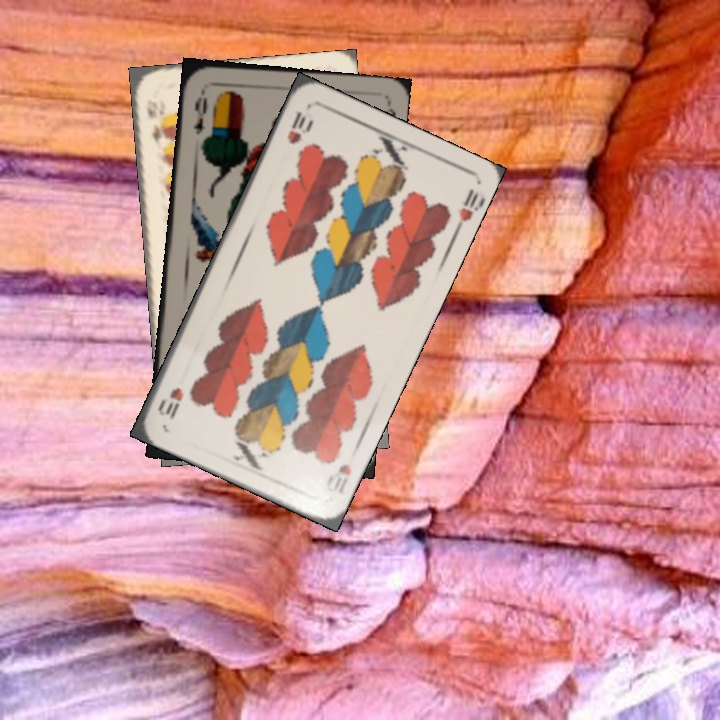E10: (143, 103, 169, 150)
EO: (189, 85, 210, 137)
H10: (321, 459, 354, 497), (283, 107, 314, 147)
